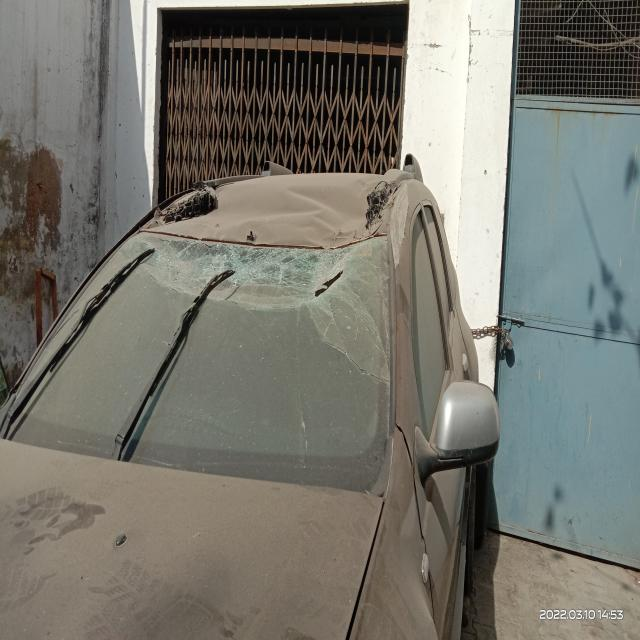damage: (126, 229, 396, 393), (150, 158, 274, 243), (356, 531, 450, 640), (261, 174, 353, 252), (355, 147, 426, 242)
